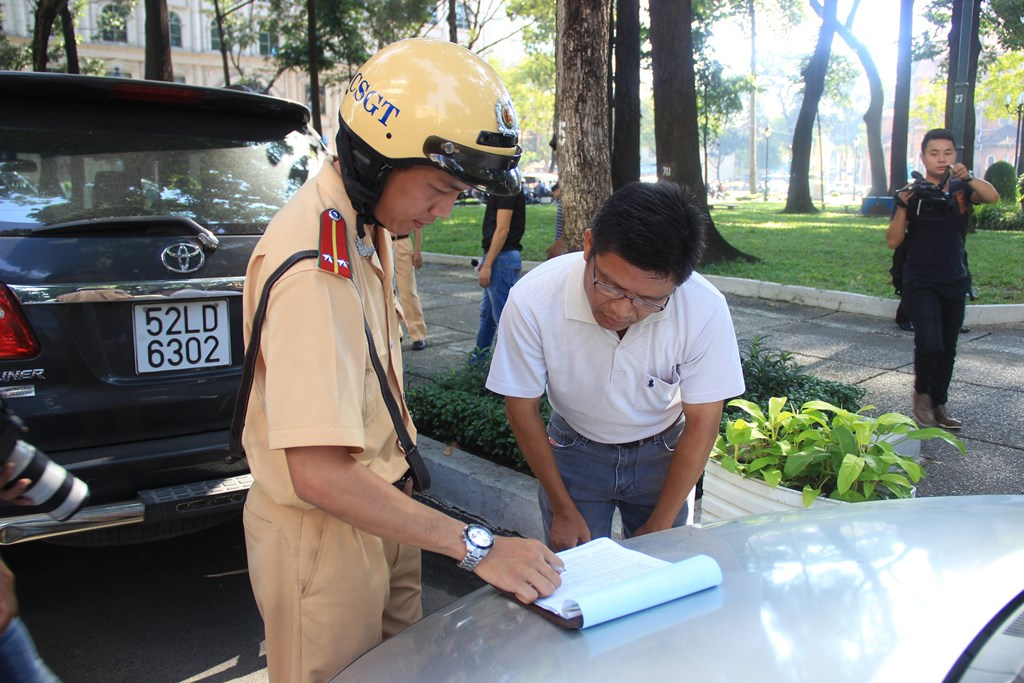police: (213, 21, 583, 669)
